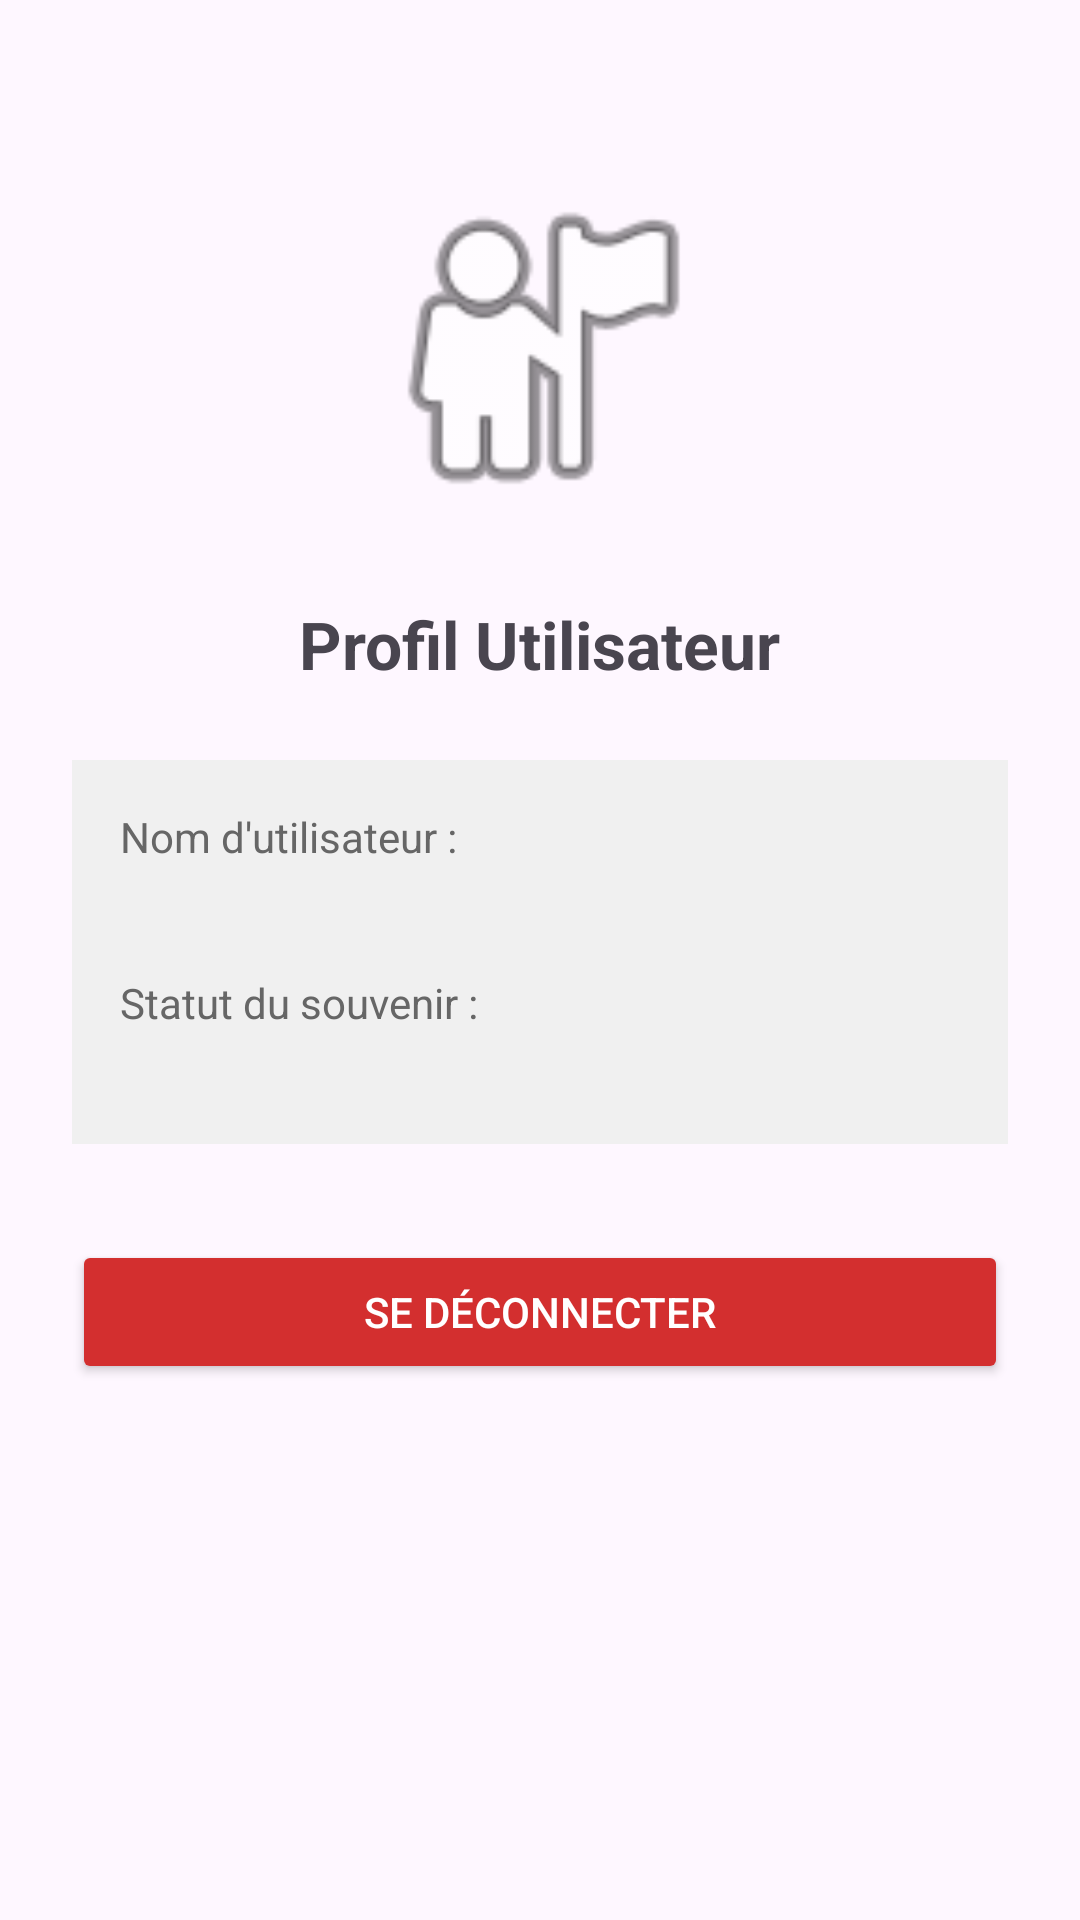

Icons on this 1080x1920 Android screen, each with its box as (x1, y1, x2, y2):
Photo de profil: (408, 213, 679, 483)
